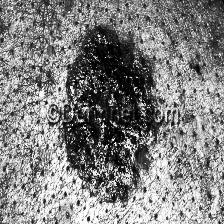Benign Marking or Mole: (61, 26, 150, 197)
